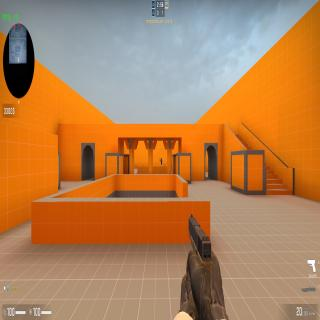CT-Body: (160, 158, 162, 165)
CT-Head: (160, 157, 162, 160)
